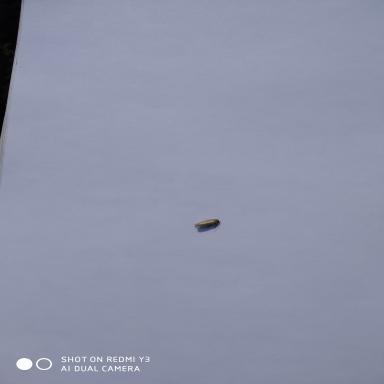pbw: (196, 216, 221, 232)
